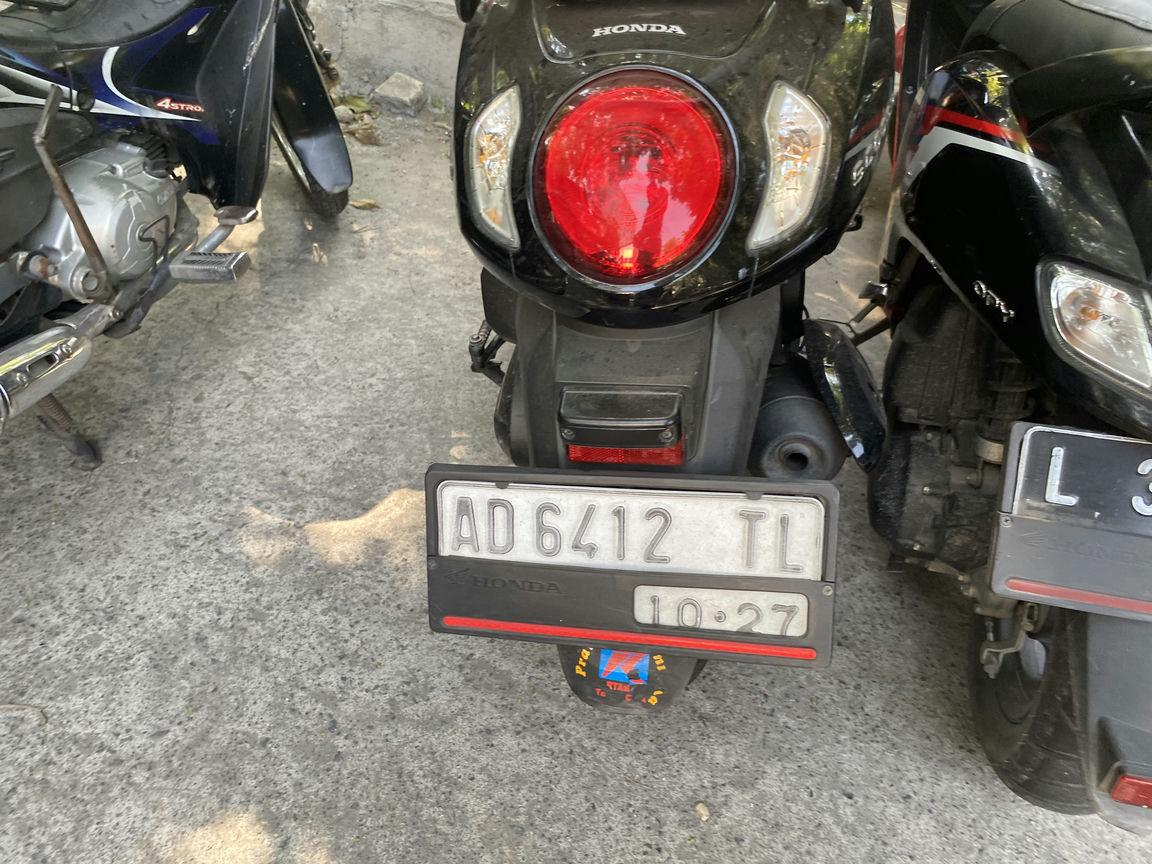plat: (428, 466, 839, 666)
